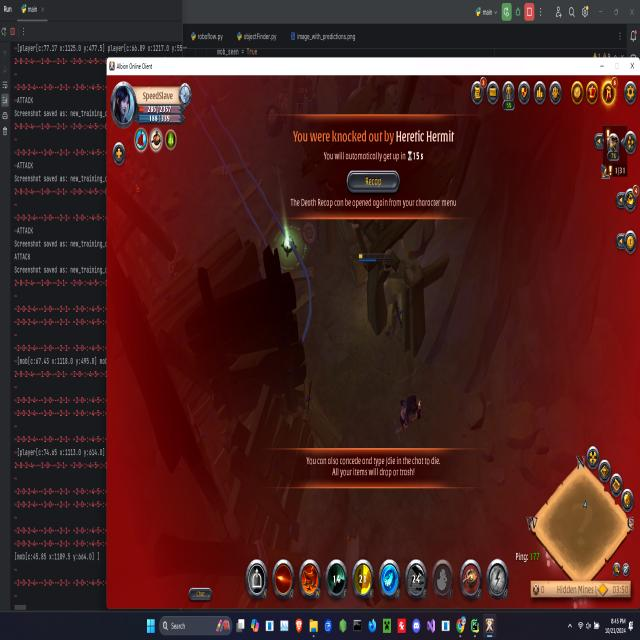ore: (392, 390, 423, 444), (197, 84, 232, 125)
red: (358, 248, 393, 270)
